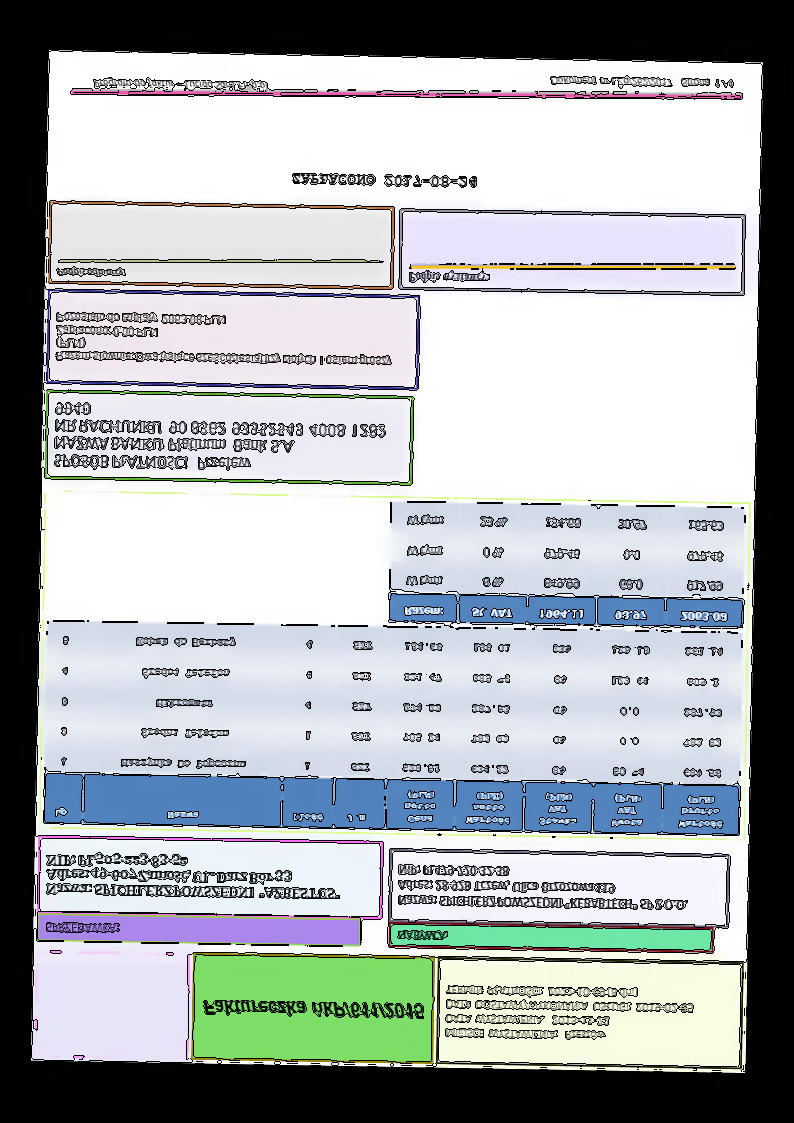Table: (41, 618, 745, 838), (385, 500, 748, 631)
TextBox: (50, 397, 393, 479), (52, 308, 399, 371), (43, 847, 342, 906), (442, 980, 700, 1048), (394, 858, 694, 916), (200, 993, 427, 1025), (545, 69, 739, 94), (289, 169, 480, 192), (88, 73, 272, 96), (404, 264, 493, 289), (40, 918, 121, 940), (50, 261, 127, 284), (394, 926, 450, 945)
